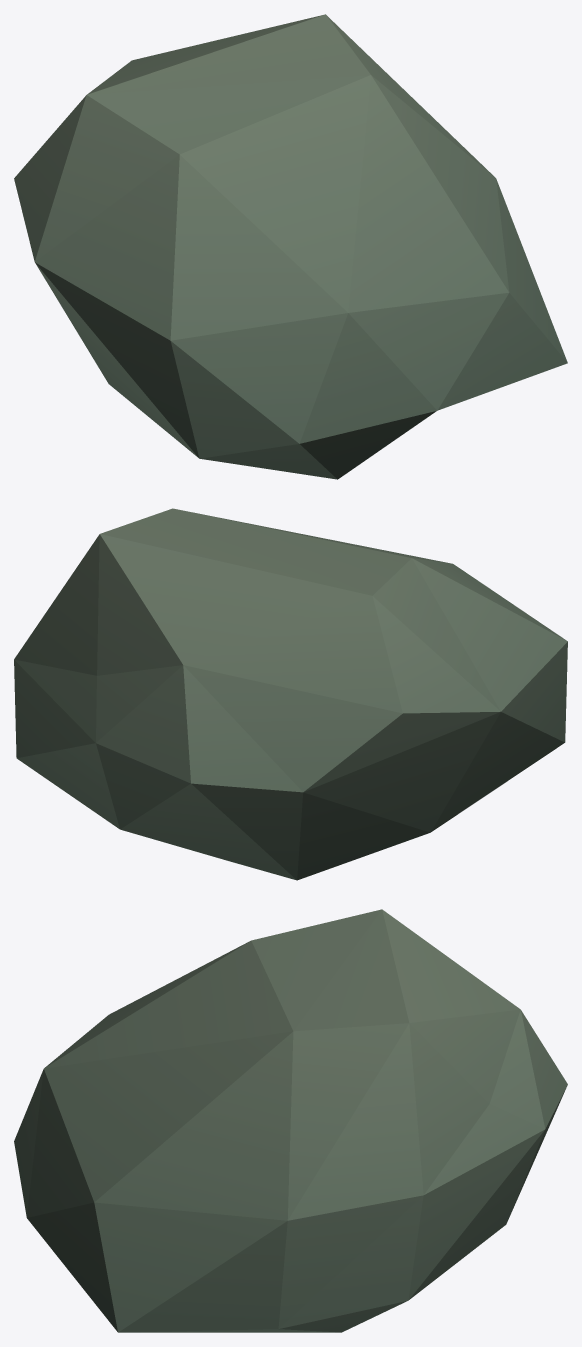
Rendered from Rock_Big_5.fbx.
3 views of the same model, one above another, from view 1: azimuth 30°, elevation 25°; view 2: azimuth 150°, elevation 25°; view 3: azimuth 270°, elevation 25° (orthographic). The views are drawn at different scales.
Visible parts, largest first — view 1: Rock_Big_5; view 2: Rock_Big_5; view 3: Rock_Big_5.
Part boxes in pixels (x1,y1,x2,y2): Rock_Big_5: [14, 14, 567, 479]; Rock_Big_5: [14, 508, 567, 880]; Rock_Big_5: [14, 909, 567, 1332].
Size of the model in its own units: 338 by 217 by 360.
